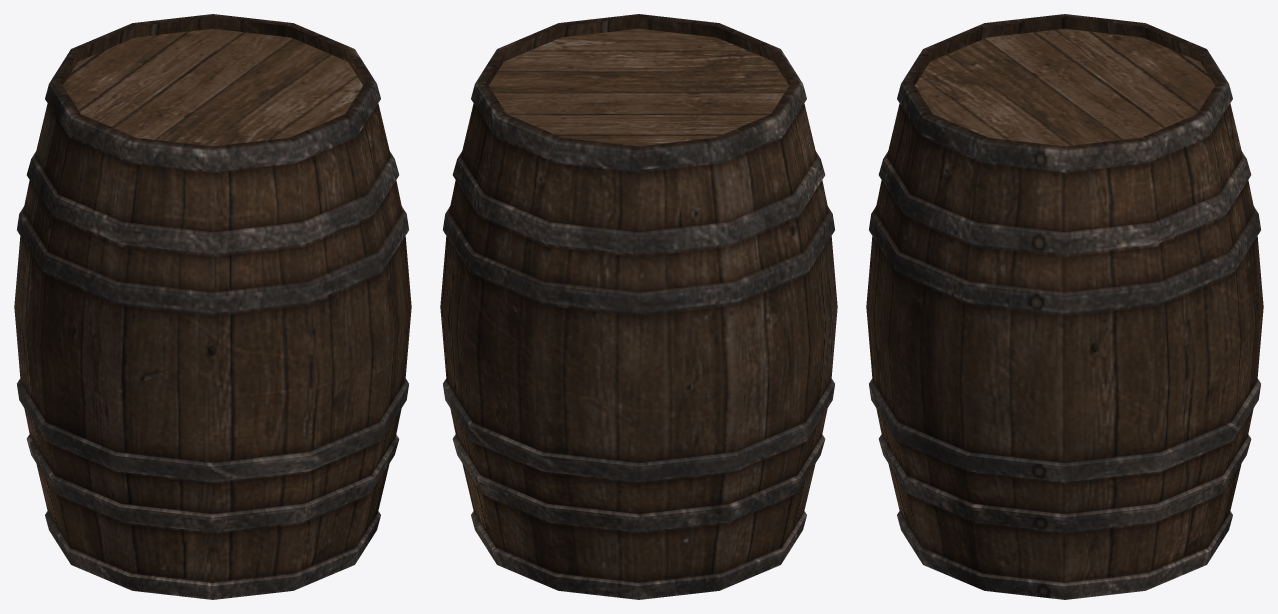
The model's file is barrel01a.FBX.
3 views of the same model, side by side, from view 1: azimuth 30°, elevation 25°; view 2: azimuth 150°, elevation 25°; view 3: azimuth 270°, elevation 25° (orthographic).
Visible parts, largest first — view 1: barrel00; view 2: barrel00; view 3: barrel00.
Part boxes in pixels (bbox=[...]): barrel00: bbox=[14, 14, 411, 599]; barrel00: bbox=[440, 14, 837, 599]; barrel00: bbox=[866, 14, 1263, 599].
Size of the model in its own units: 1 by 1.25 by 1.
Materials: 1 (1 with a texture image).
